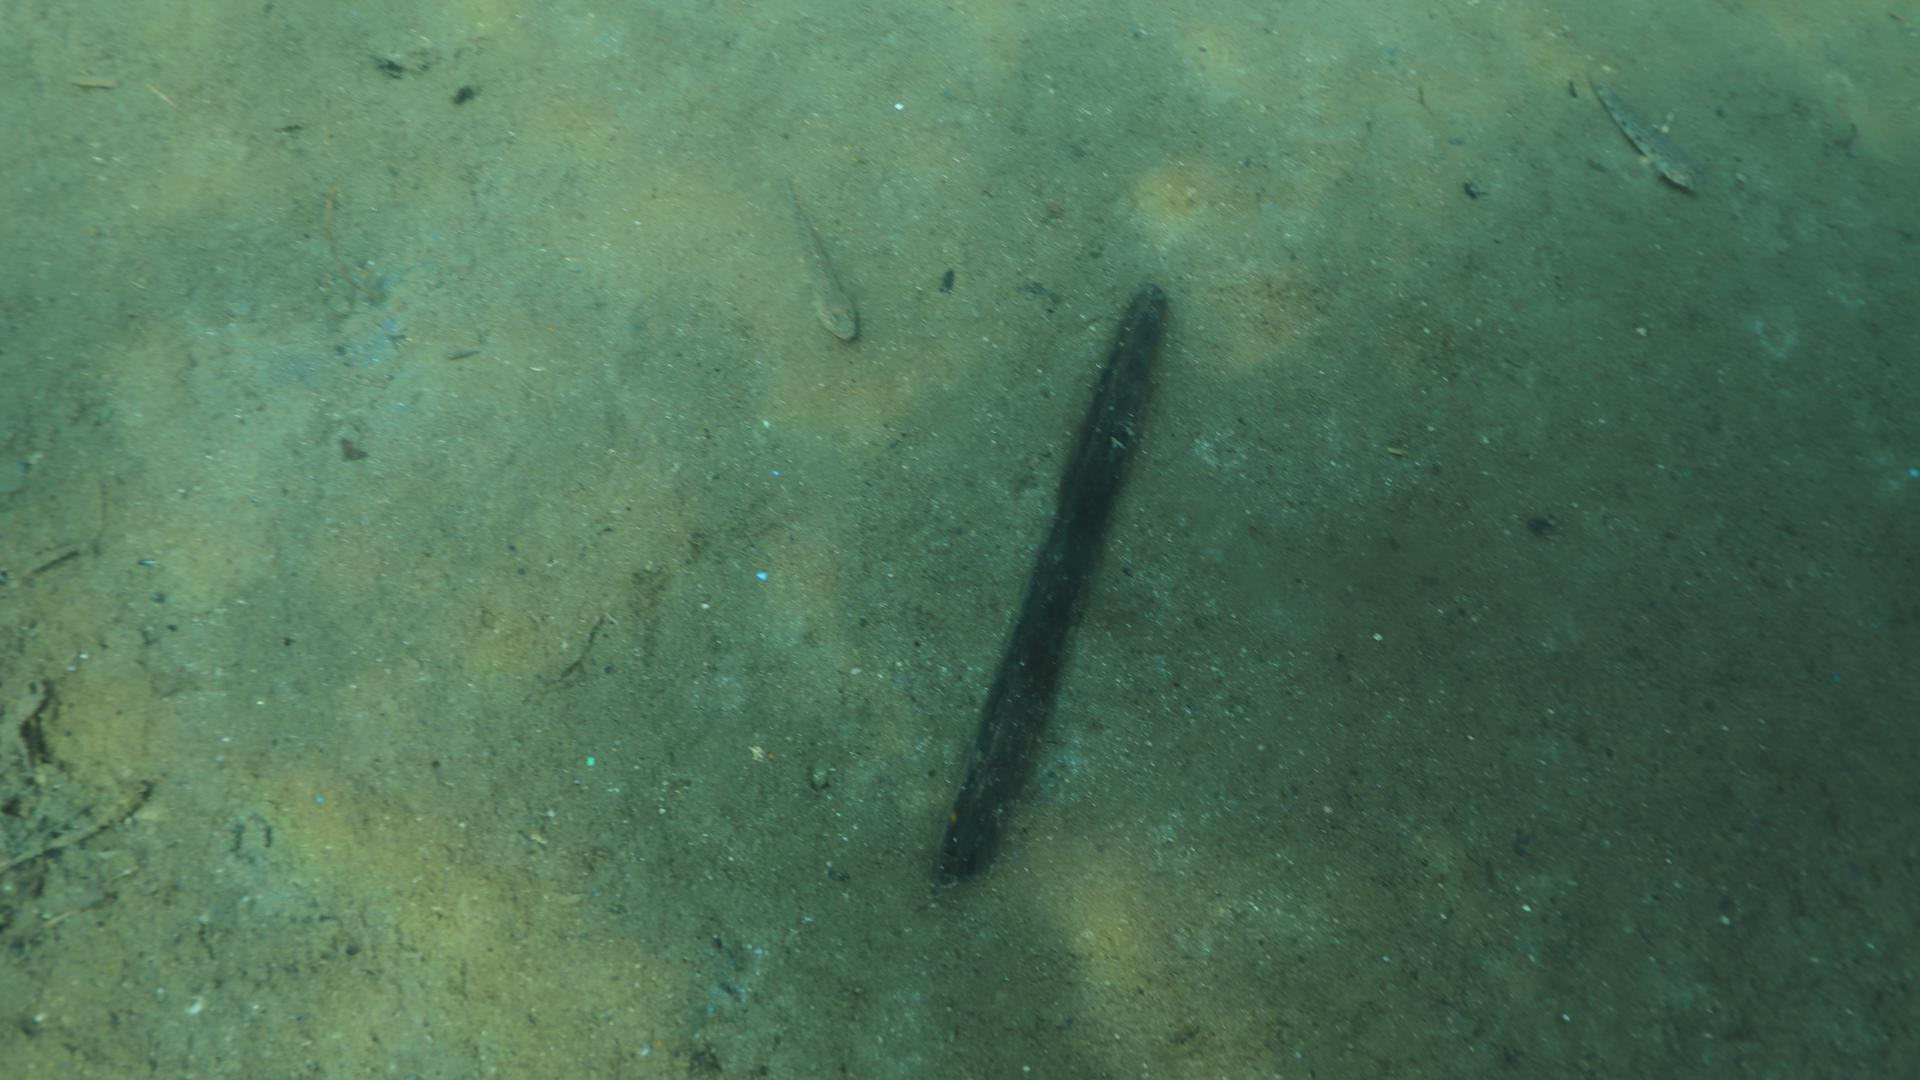wood: (934, 280, 1168, 874)
